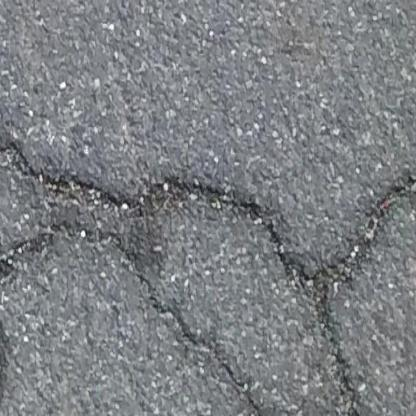Cracks: (0, 126, 416, 416), (99, 229, 281, 416), (0, 224, 65, 282)
